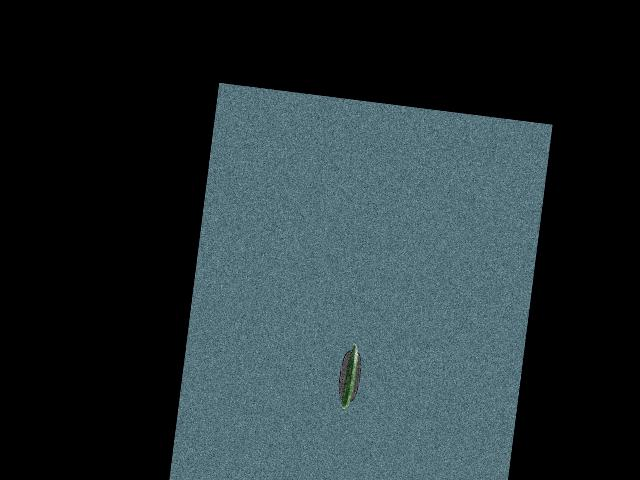cucumber: (340, 342, 359, 409)
